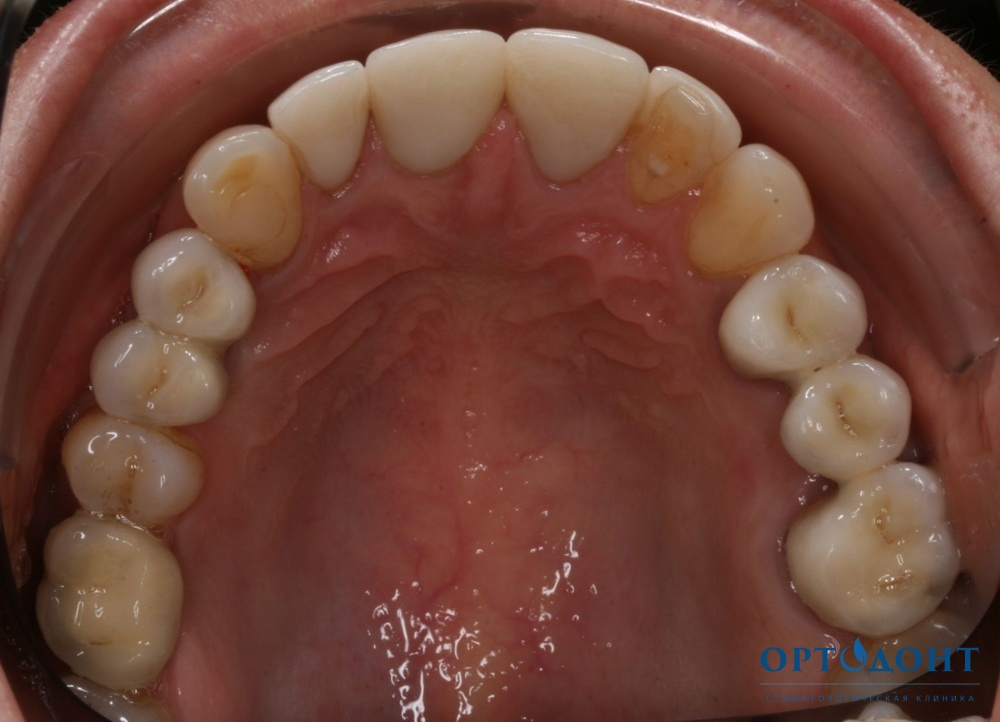UL1BC_decay: (719, 253, 874, 383)
UL1M_decay: (783, 461, 960, 634)
UL2BC_decay: (770, 360, 914, 480)
ULCI_healthy: (503, 25, 646, 179)
ULC_healthy: (681, 142, 812, 277)
ULLI_decay: (626, 69, 738, 204)
UR1BC_decay: (126, 234, 257, 345)
UR1M_decay: (58, 415, 209, 530)
UR2BC_decay: (84, 316, 230, 430)
UR2M_healthy: (35, 507, 189, 693)
URCI_healthy: (366, 33, 504, 176)
URC_decay: (175, 119, 309, 272)
URLI_healthy: (267, 56, 372, 194)
